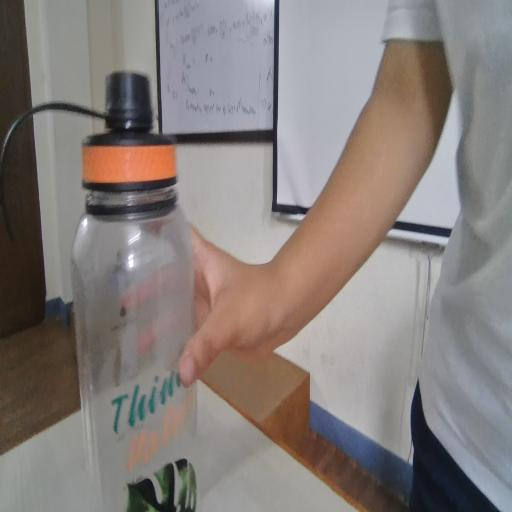Bottle: (61, 68, 206, 471)
